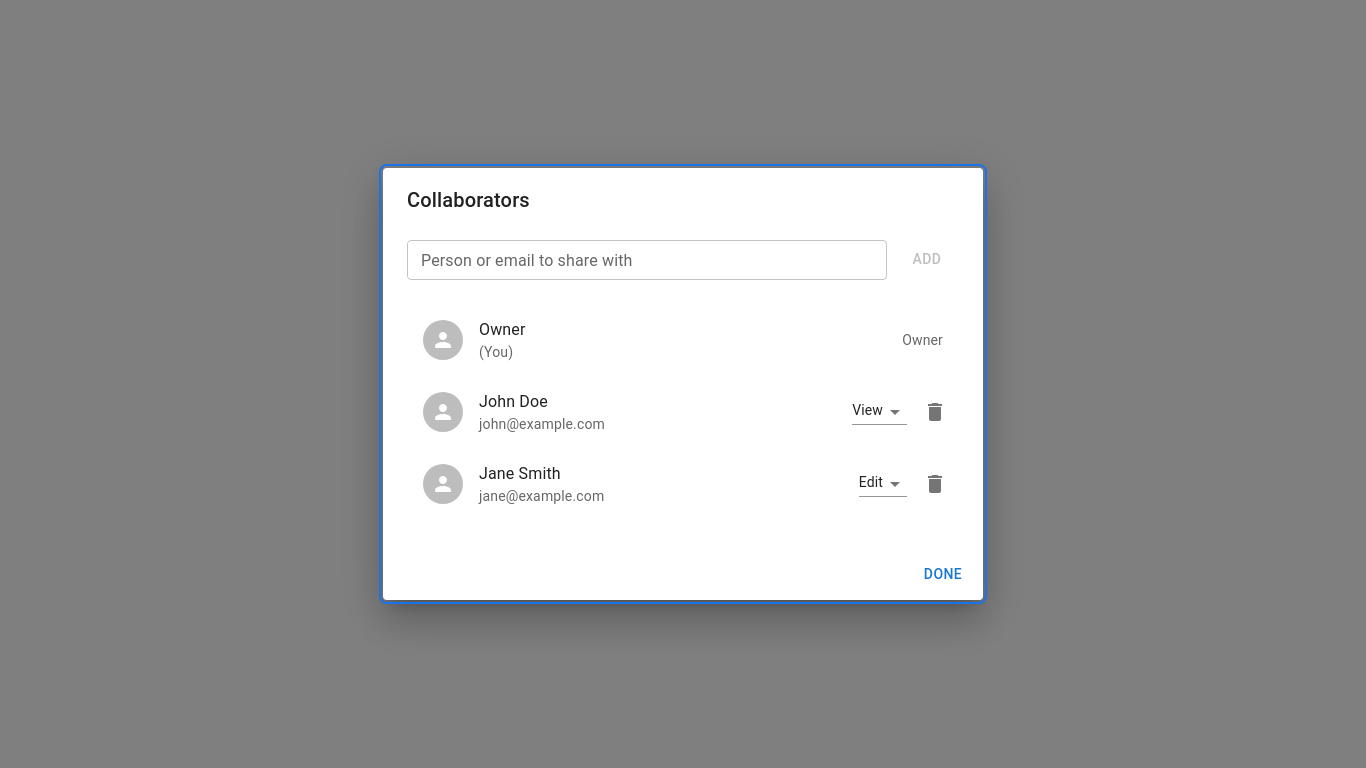
CollaboratorDialog Component › As Owner › should display error when adding non-existent user
The image size is (1366, 768).
Type "nonexistent@example.com" into the field labelled "Person or email to share with".
click(647, 260); type("nonexistent@example.com")  # box [407,240,887,280]
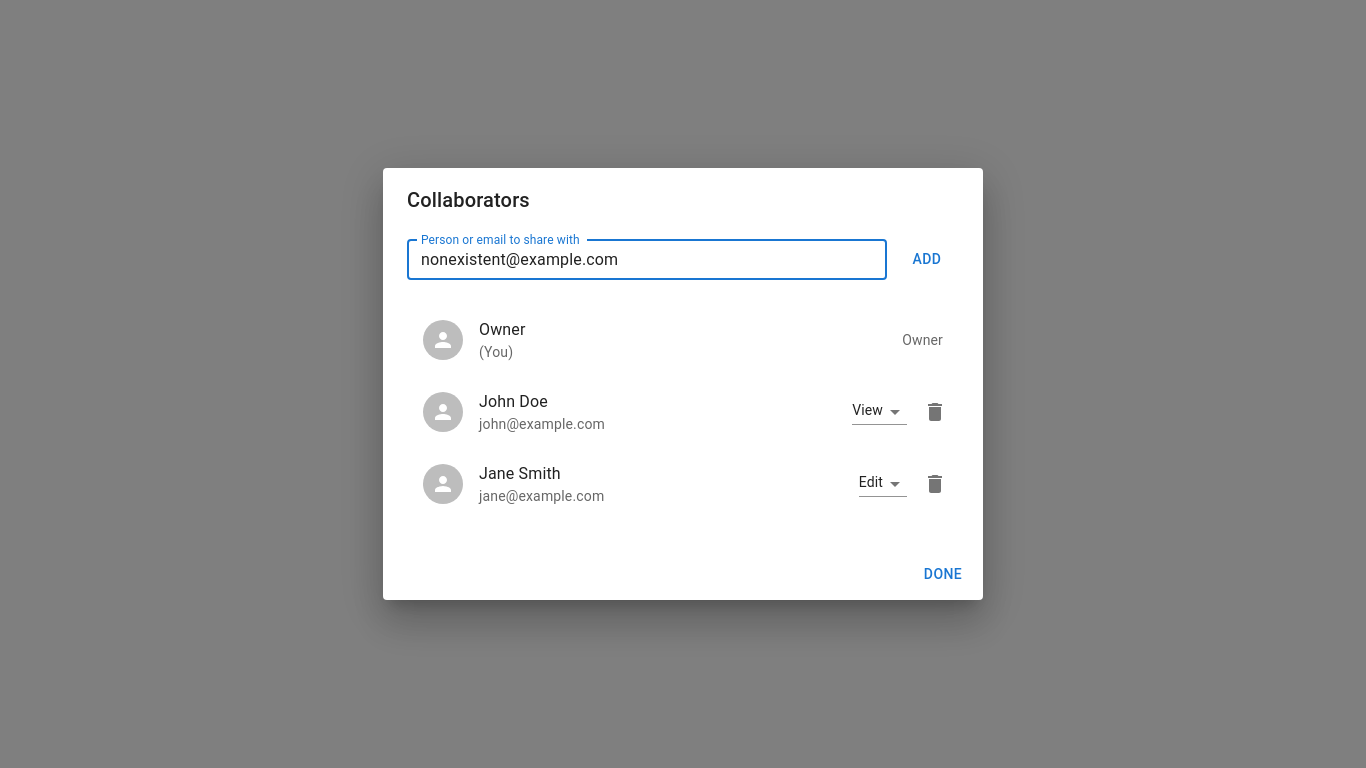
Click the button "Add".
click(927, 260)  # box [895,242,959,278]
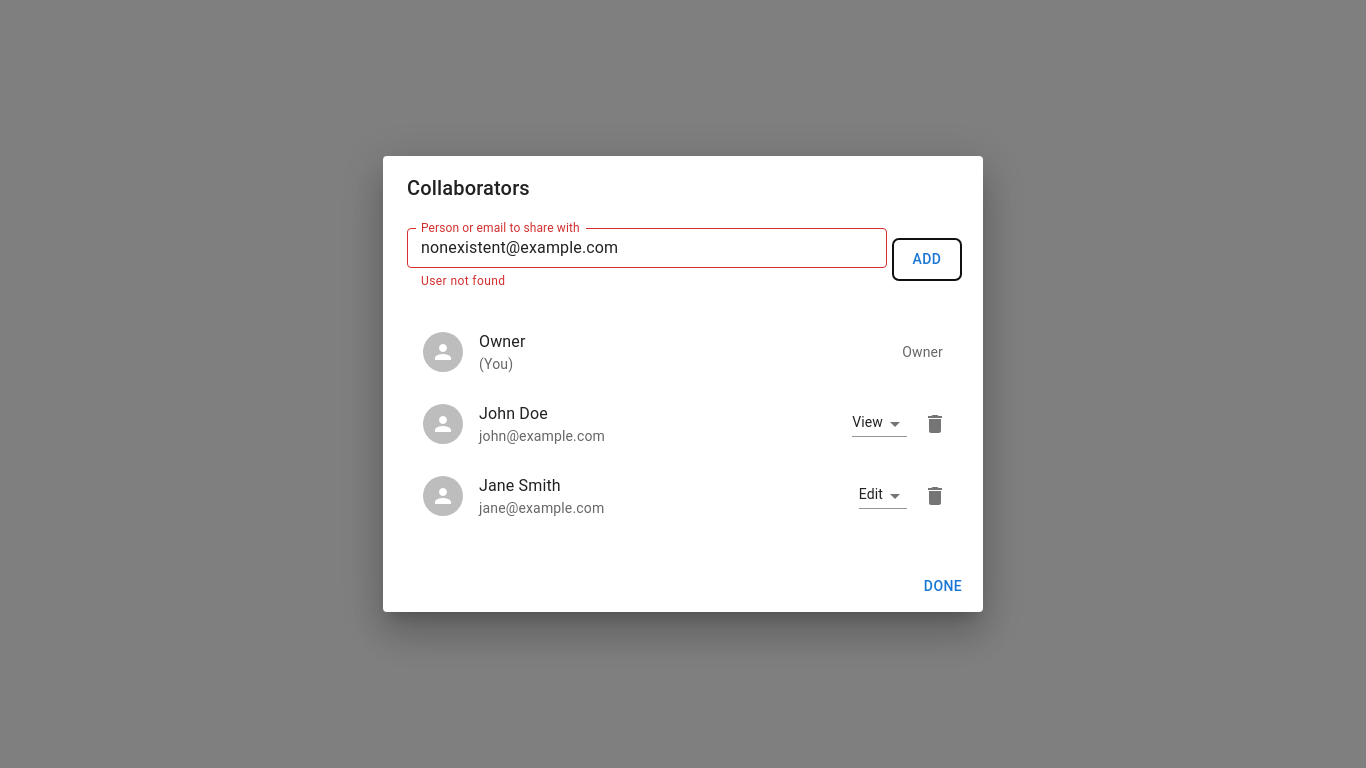
Result: the text "User not found" is shown at [421,274,505,288]
